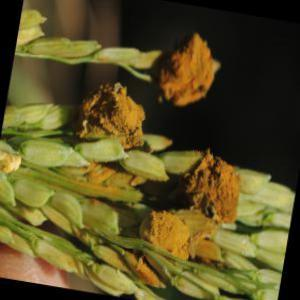Leaf_Scald: (187, 154, 240, 221), (78, 88, 139, 146), (157, 42, 213, 102), (147, 211, 203, 257), (130, 255, 158, 291)
